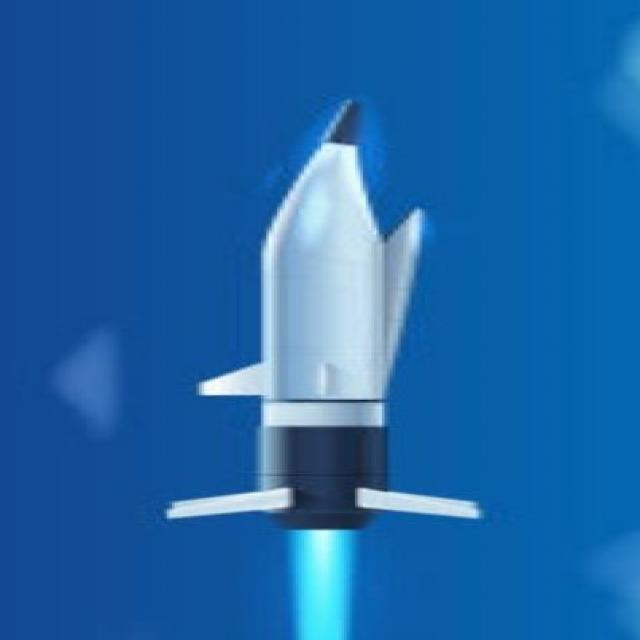missile: (245, 90, 447, 542)
